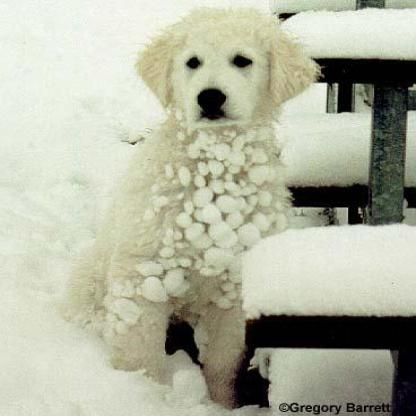kuvasz: (59, 5, 320, 407)
